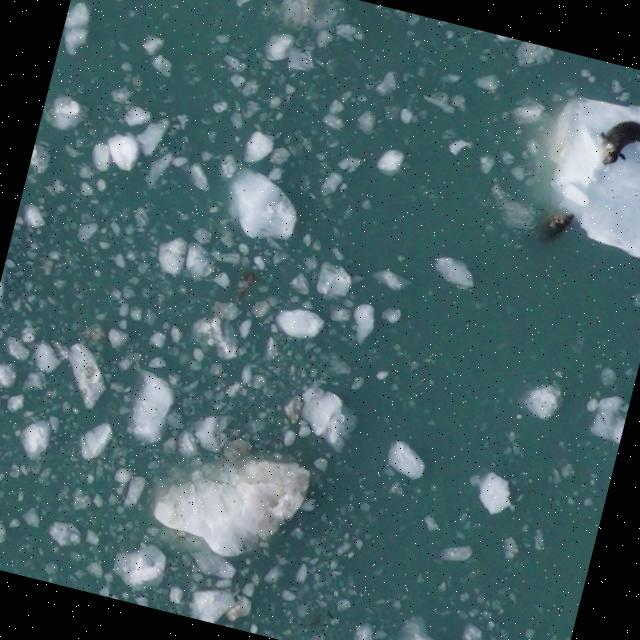seal: (585, 108, 640, 179)
